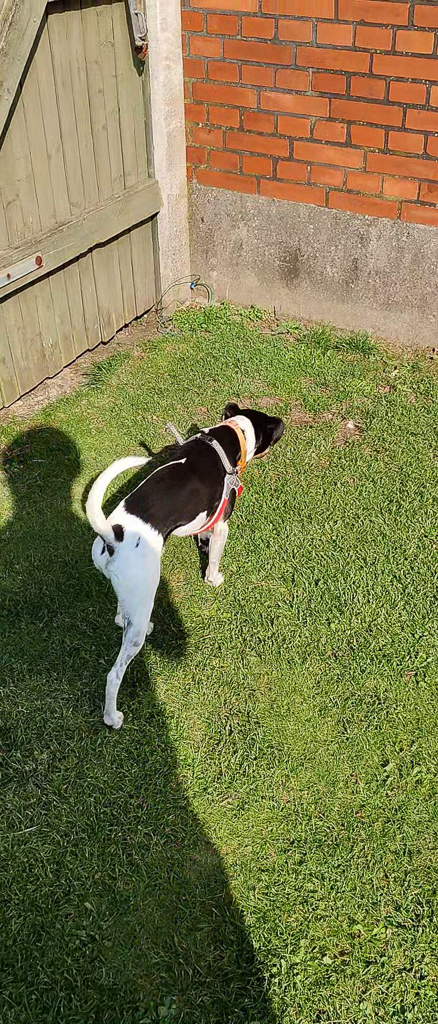Dog: (66, 391, 299, 743)
